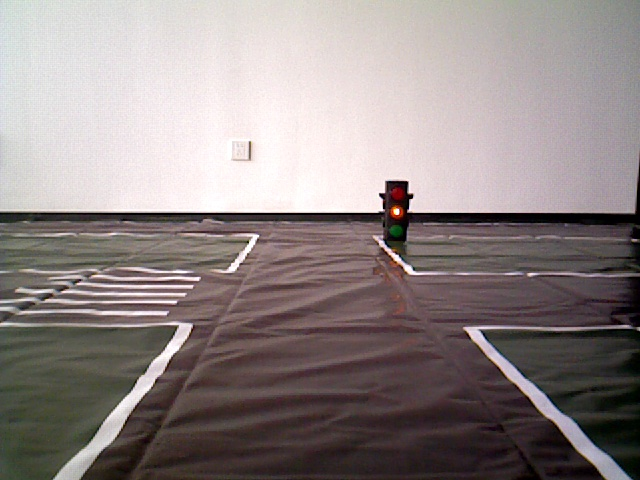yellow: (383, 181, 412, 243)
